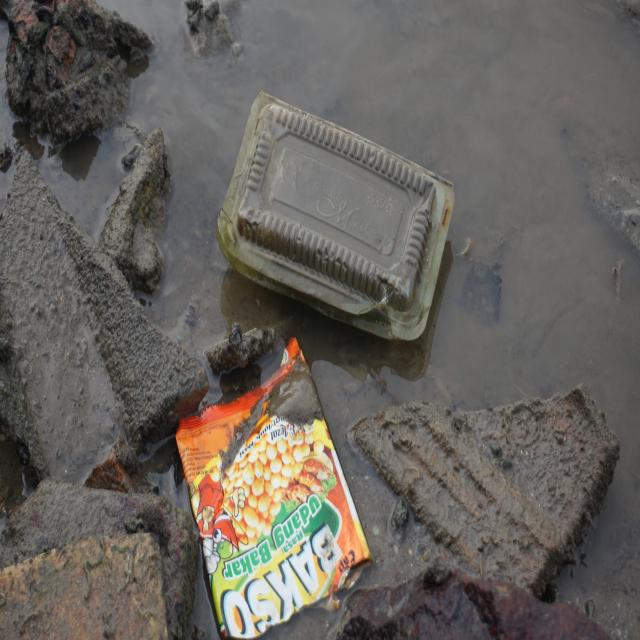Bungkus Makanan: (217, 87, 457, 347), (174, 335, 371, 640)
